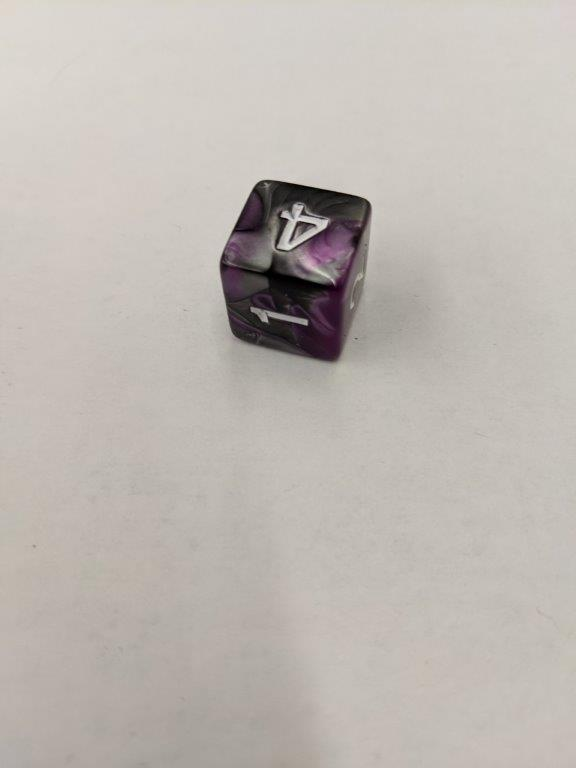d6-4: (218, 178, 374, 358)
